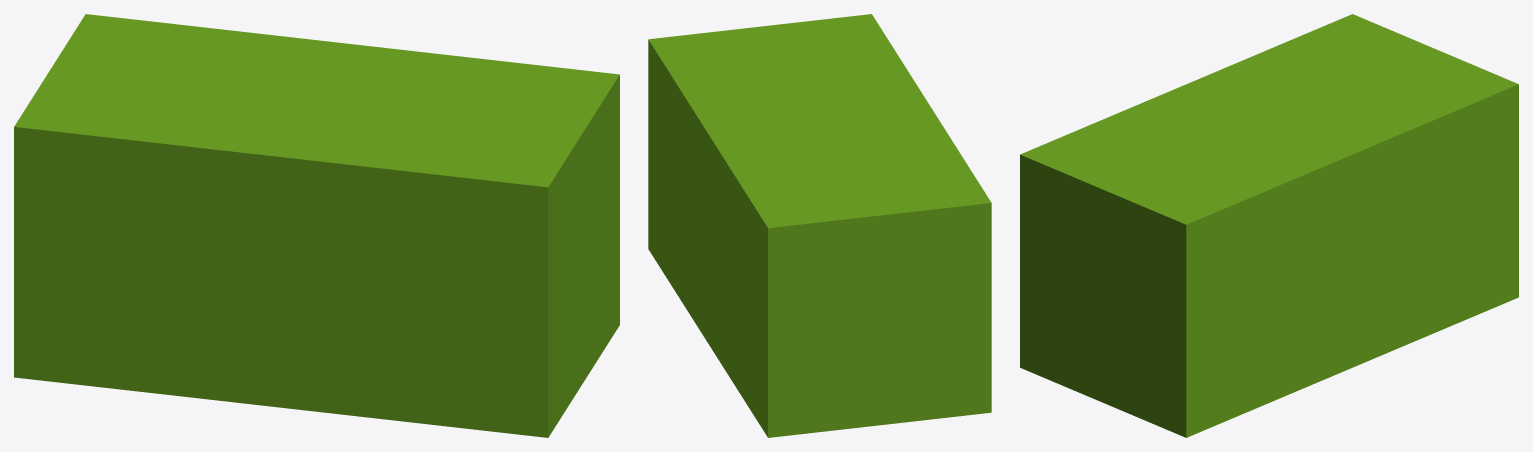
The model's file is GenjiLegFrontRight.glb.
3 renders of one model, left to right at view 1: azimuth 30°, elevation 25°; view 2: azimuth 150°, elevation 25°; view 3: azimuth 270°, elevation 25°, orthographic. The views are drawn at different scales.
Parts seen in each view (by area): view 1: FootFrontLeft; view 2: FootFrontLeft; view 3: FootFrontLeft.
Part boxes in pixels (left/top/right/bottom): FootFrontLeft: left=14, top=14, right=619, bottom=437; FootFrontLeft: left=648, top=14, right=991, bottom=437; FootFrontLeft: left=1020, top=14, right=1518, bottom=437.
Size of the model in its own units: 6.36 by 3 by 6.36.
